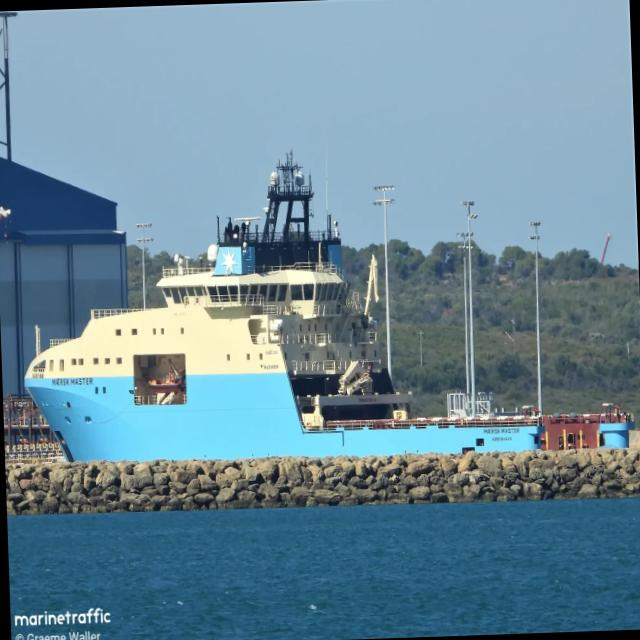Offshore: (25, 160, 634, 460)
